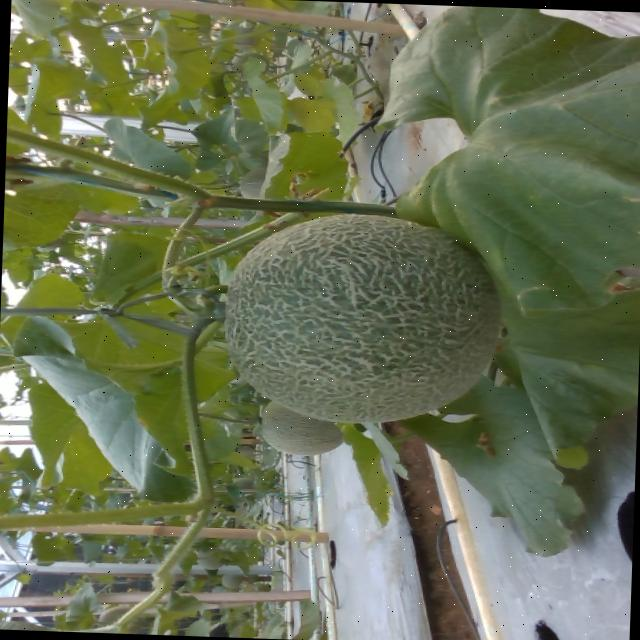melon: (225, 213, 501, 420)
